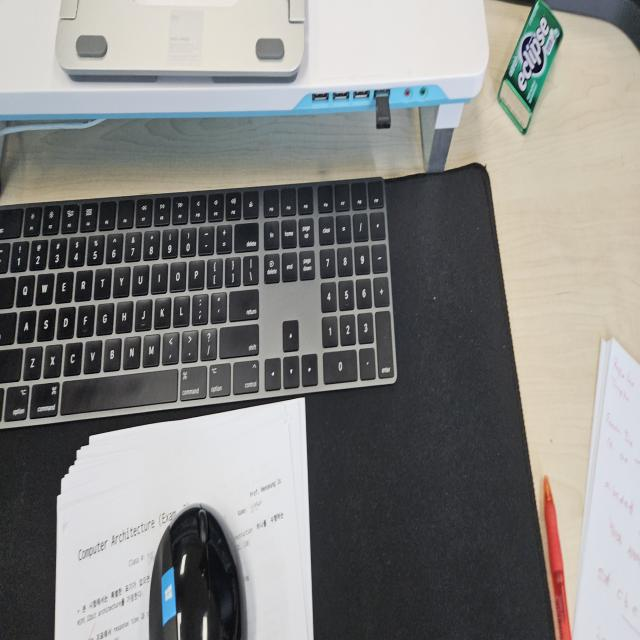Keyboard: (1, 175, 398, 429)
Mouse: (147, 500, 244, 637)
